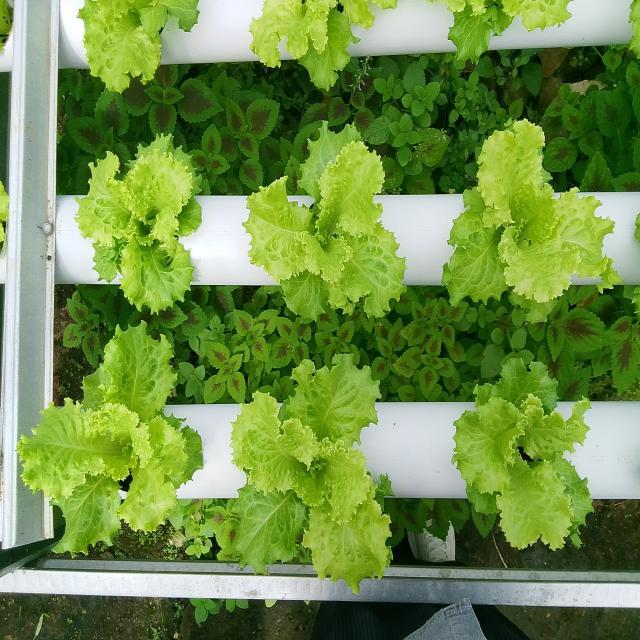Baby: (17, 322, 203, 556), (219, 354, 392, 591), (442, 120, 624, 322), (244, 124, 406, 320), (452, 358, 593, 550), (75, 134, 201, 314)
